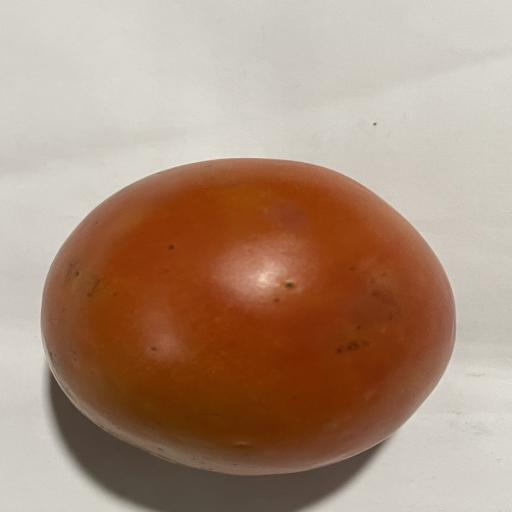ripe: (41, 159, 455, 475)
